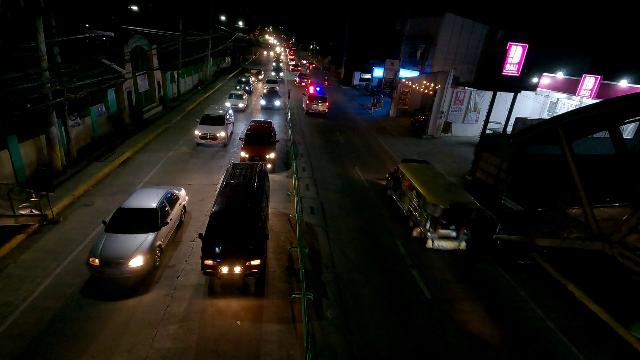car: (87, 181, 188, 278), (239, 120, 279, 172), (193, 104, 235, 147), (259, 87, 282, 110), (224, 90, 248, 110), (235, 80, 254, 96), (262, 77, 281, 93), (249, 69, 265, 82), (271, 67, 283, 77), (290, 62, 300, 72)
jeepney: (386, 159, 477, 255)
pickup-truck: (295, 73, 311, 87)
van: (198, 161, 270, 289)
